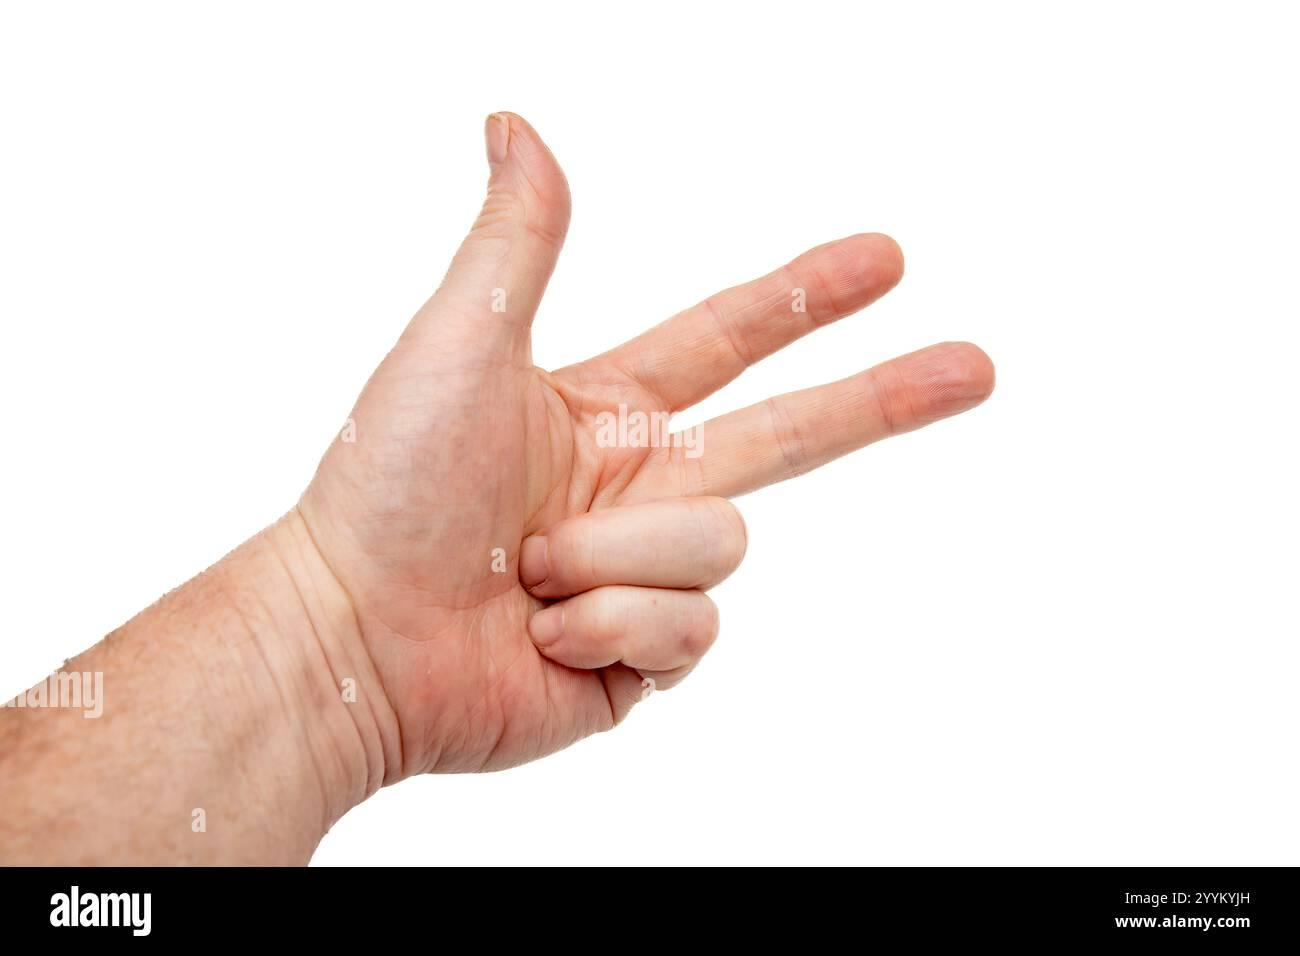scissors: (300, 106, 1000, 782)
